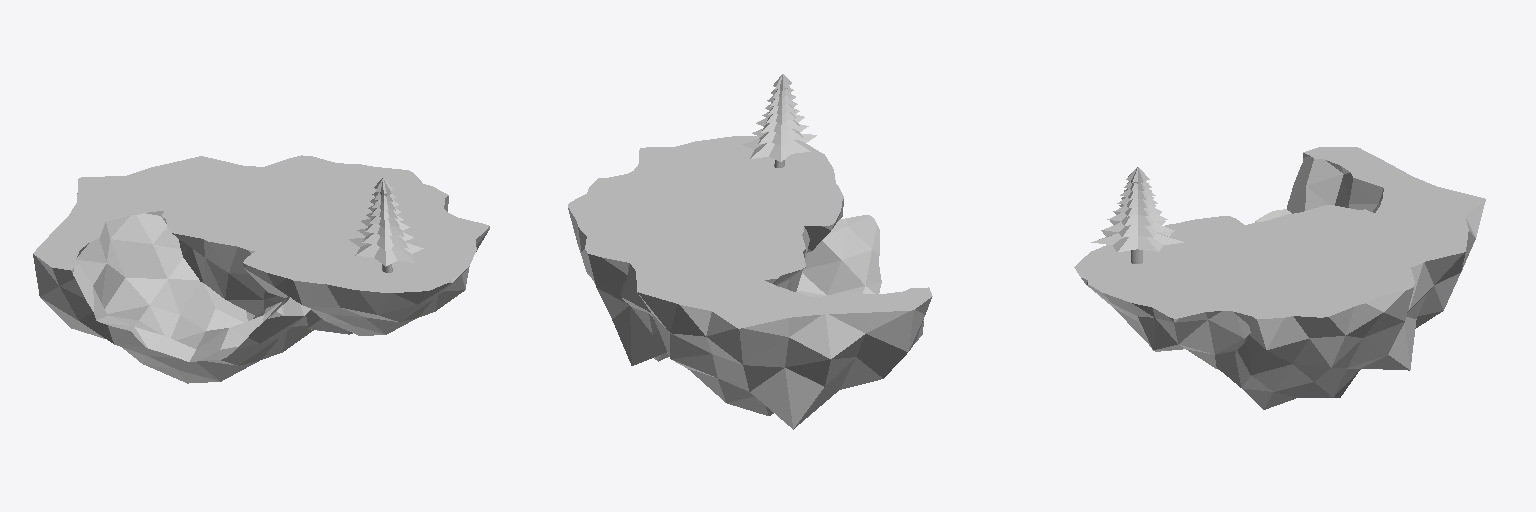
Rendered from tinker.obj.
The picture shows the model from 3 angles: view 1: azimuth 30°, elevation 25°; view 2: azimuth 150°, elevation 25°; view 3: azimuth 270°, elevation 25°; orthographic projection.
Parts seen in each view (by area): view 1: obj_0; view 2: obj_0; view 3: obj_0.
Boxes of the visible parts, x1=… form: obj_0: x1=33, y1=155, x2=489, y2=383; obj_0: x1=568, y1=74, x2=932, y2=429; obj_0: x1=1074, y1=147, x2=1485, y2=409.
Size of the model in its own units: 101 by 60.92 by 97.29.